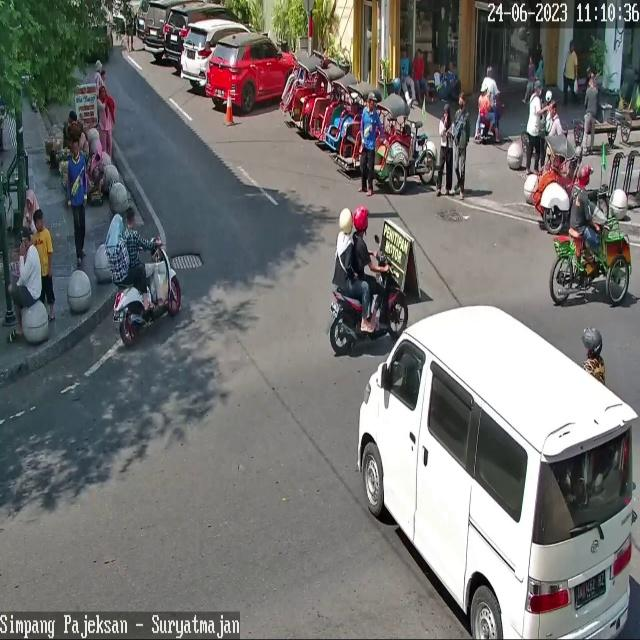bus: (329, 249, 409, 354), (114, 236, 180, 346)
motorcycle: (357, 304, 639, 640), (206, 33, 300, 112), (163, 4, 246, 64), (181, 21, 252, 88), (143, 0, 169, 53)
